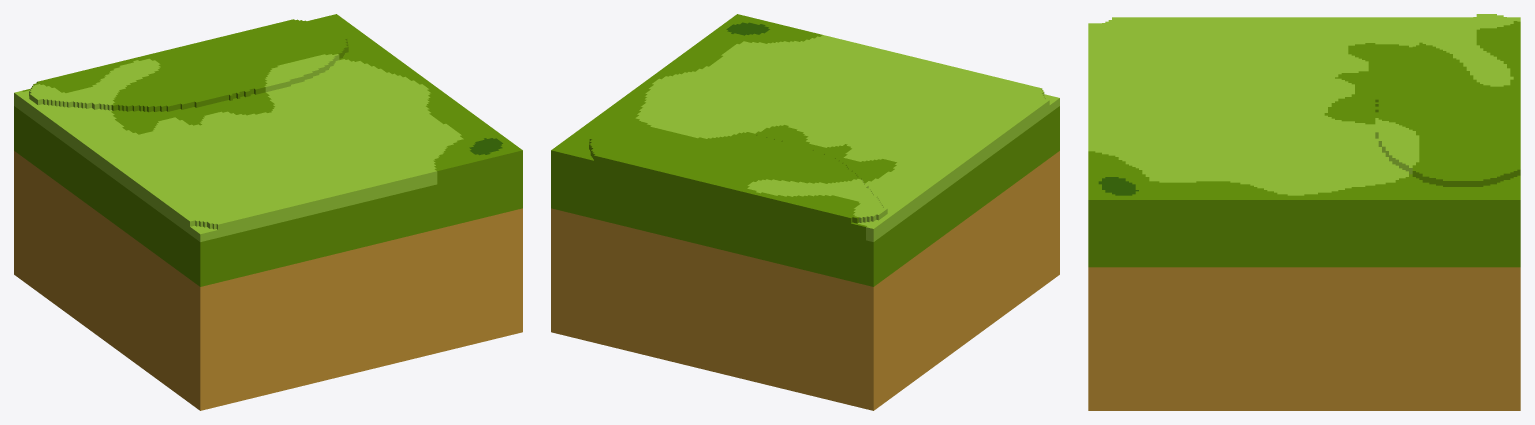
3 views of the same model, side by side, from view 1: azimuth 30°, elevation 25°; view 2: azimuth 150°, elevation 25°; view 3: azimuth 270°, elevation 25° (orthographic). The views are drawn at different scales.
Parts seen in each view (by area): view 1: 15I; view 2: 15I; view 3: 15I.
Boxes of the visible parts, x1,y1,x2,y2 form: 15I: [14, 14, 522, 410]; 15I: [551, 14, 1059, 410]; 15I: [1088, 14, 1520, 410].
Bounding box in the file's own units: 12.8 × 7.1 × 12.8.
1 material, 1 textured.
